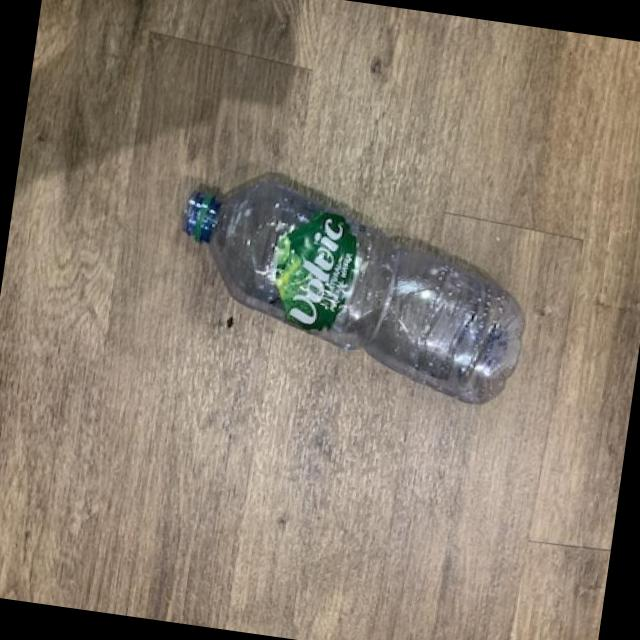plastic_bottle: (156, 170, 540, 410)
